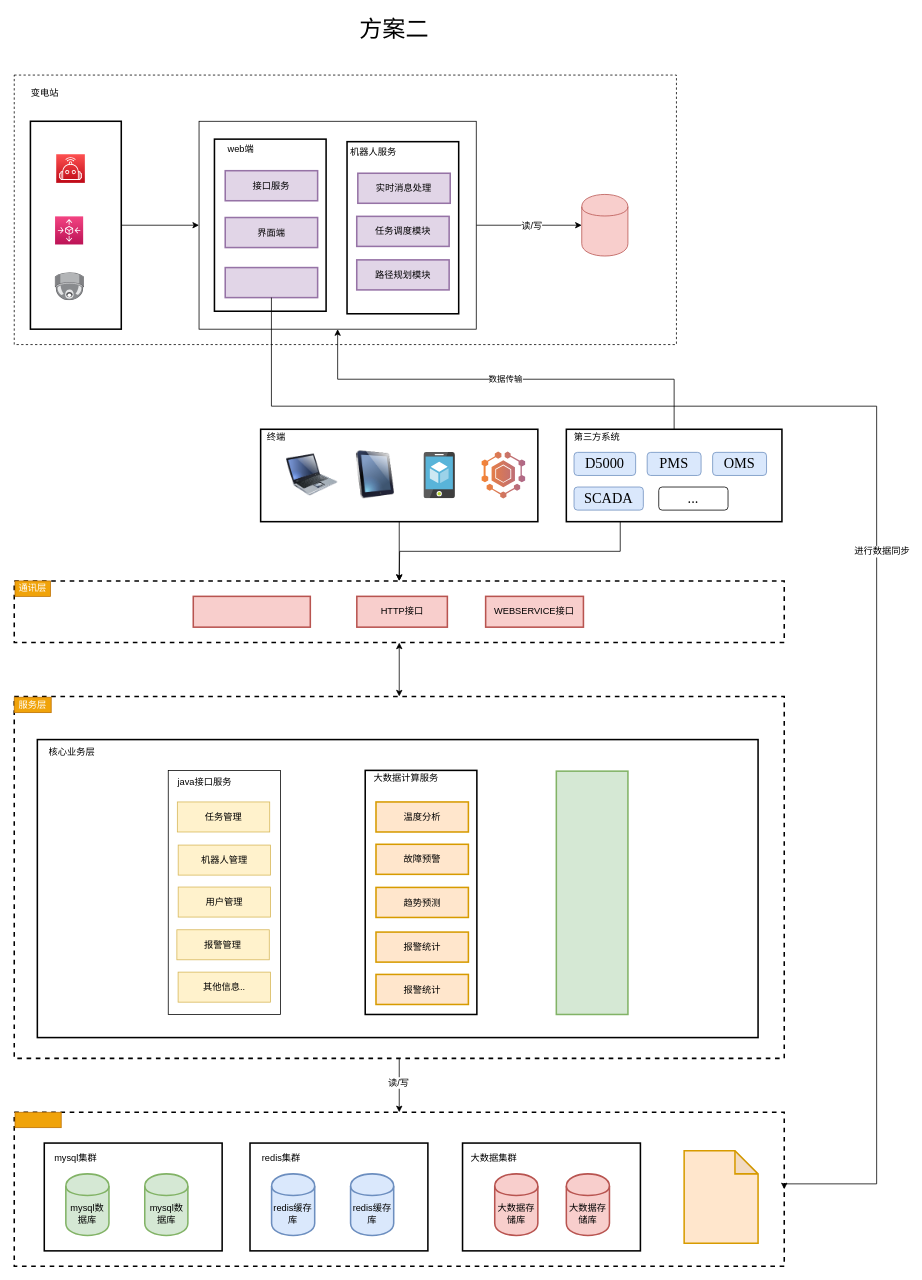
Image size: 922x1280. Some labels were removed from this diagram. Here are the shapes that lost their labels. From the top down, the box of each, then its label:
(55, 153, 85, 183): 巡检机器人
(54, 216, 83, 244): 无人机
(581, 194, 628, 256): 数据存储
(55, 272, 84, 300): 摄像头
(224, 266, 318, 298): 定期数据同步服务
(286, 450, 337, 498): PC
(351, 450, 399, 498): PAD
(424, 452, 455, 498): 手机
(481, 451, 525, 499): 其它
(192, 595, 311, 628): WEBSOCKET服务
(555, 770, 628, 1015): 权 限 控 制
(14, 1111, 61, 1128): 资源层
(683, 1150, 758, 1244): 文件存储库 图片/音频/等
